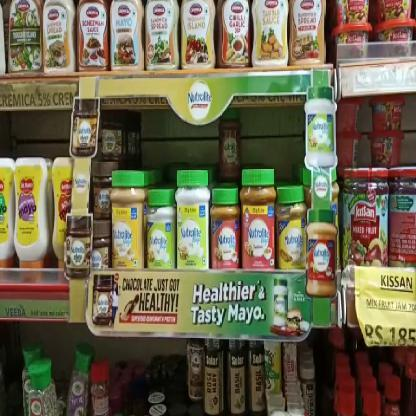Nutralite ACHARI MAYO 300g-275g-25g-: (276, 186, 306, 274)
Nutralite CHEESY GARLIC MAYO 300g-275g-25g-: (111, 171, 145, 272)
Nutralite CHOCO SPREAD CALCIUM 275g: (92, 160, 114, 221)
Nutralite TANDOORI MAYO 300g-275g-25g-: (242, 170, 275, 272), (210, 186, 240, 270)
Nutralite VEG MAYO 300g-275g-25g-: (177, 171, 210, 271), (145, 190, 176, 271)
